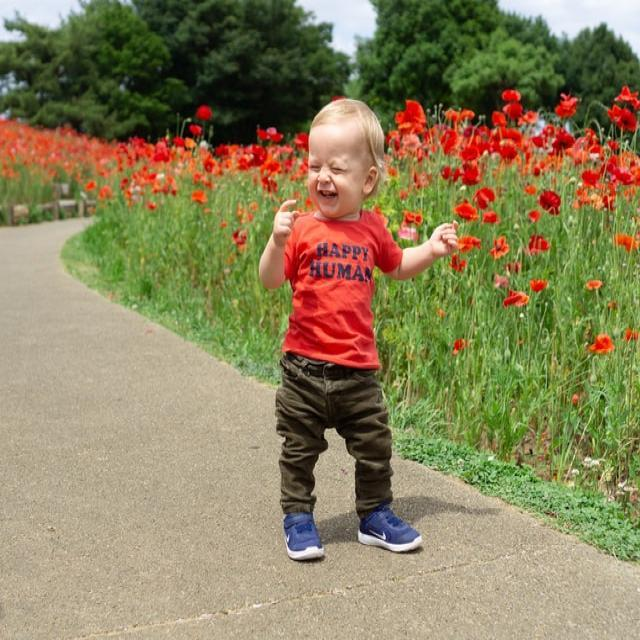non-dog: (255, 98, 460, 563)
